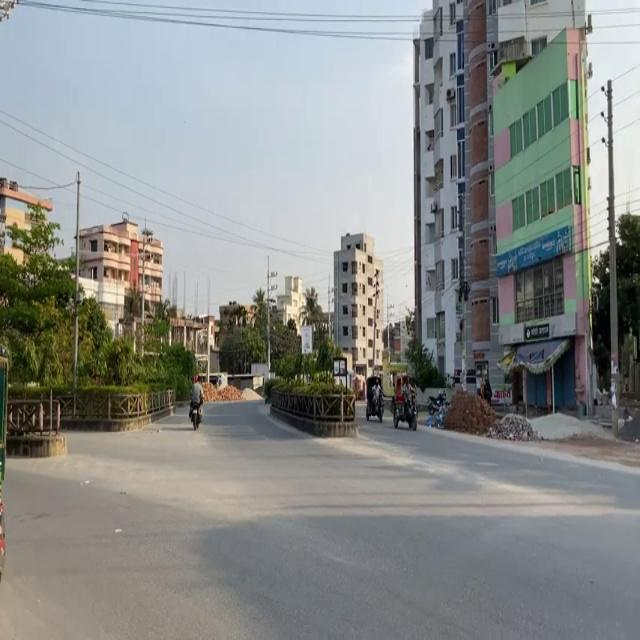Construction-barrier: (414, 420, 639, 475), (55, 402, 175, 432), (269, 405, 358, 437)
Fallen-tree: (390, 388, 418, 431), (424, 391, 448, 428), (365, 385, 384, 422), (188, 398, 203, 430)
Garbage: (5, 397, 66, 457)
Garbage-bin: (188, 375, 204, 425)
Light-pole: (604, 76, 624, 404)
